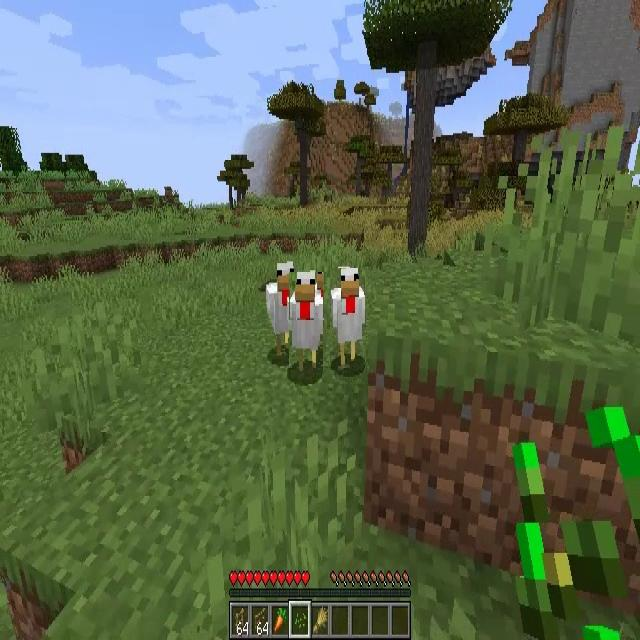duck: (330, 268, 366, 370), (289, 272, 323, 373), (267, 260, 296, 350)
